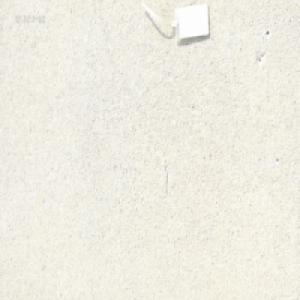LuggageTag: (137, 2, 210, 47)
